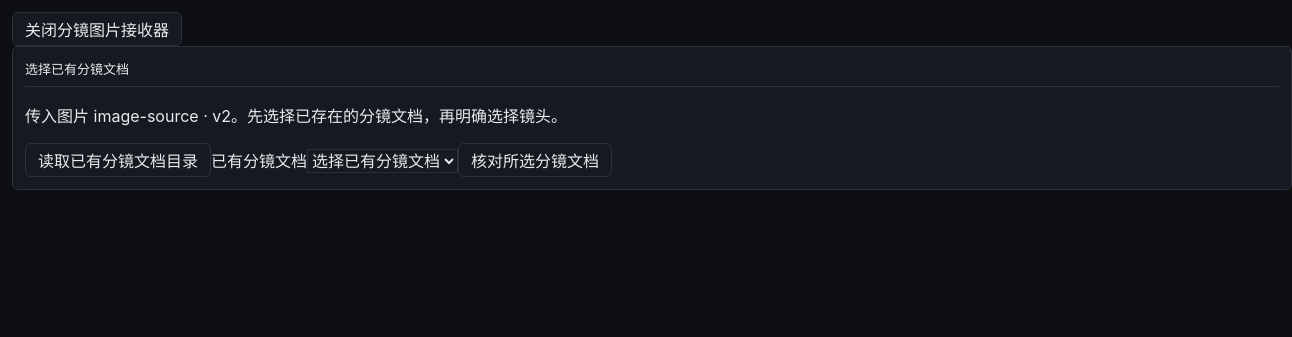
Test case: direct existing-storyboard recipient wrapper fences › blocks retained read/select closures after selection change without extra GETs
A fresh explicit action still reads the latest selected document once.
Click the button "读取已有分镜文档目录": coordinates (118, 160) top-left (25, 143), bottom-right (211, 177)
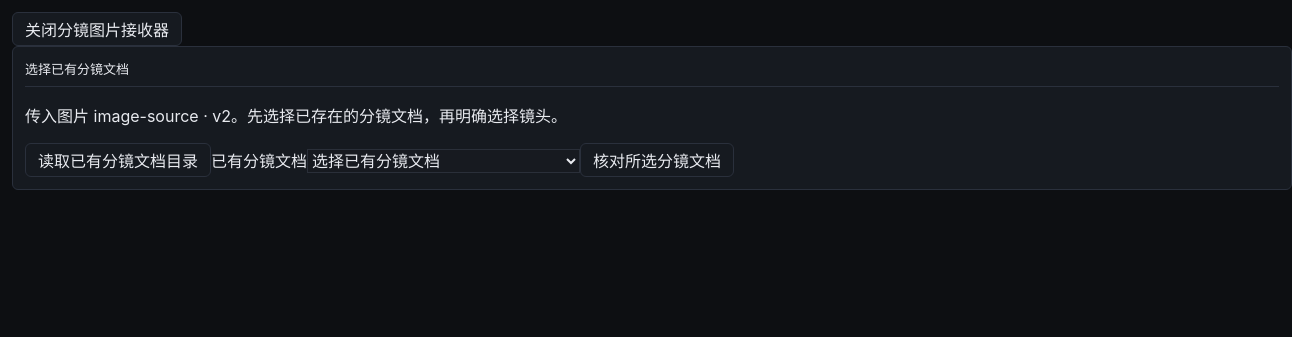
Select "Private existing storyboard A · v4" in the dropdown labelled "已有分镜文档": coordinates (444, 161) top-left (307, 149), bottom-right (580, 173)
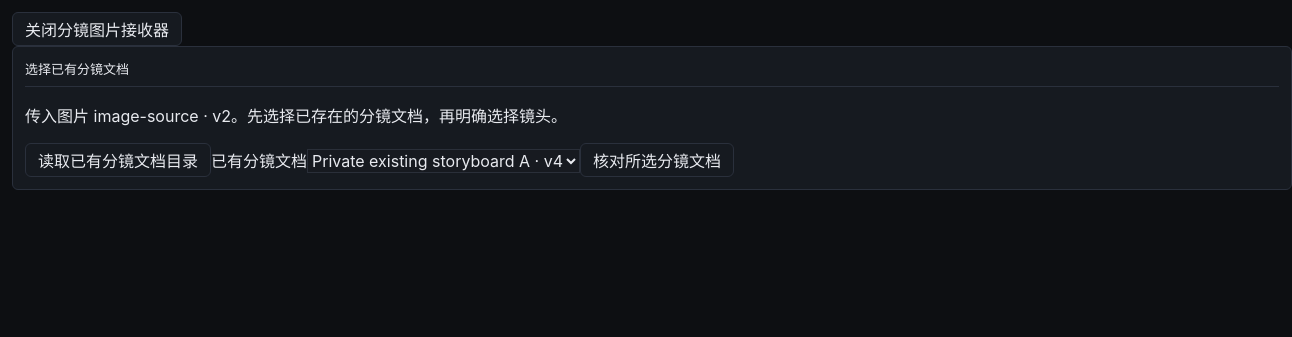
Select "Private existing storyboard B · v4" in the dropdown labelled "已有分镜文档": coordinates (444, 161) top-left (307, 149), bottom-right (580, 173)
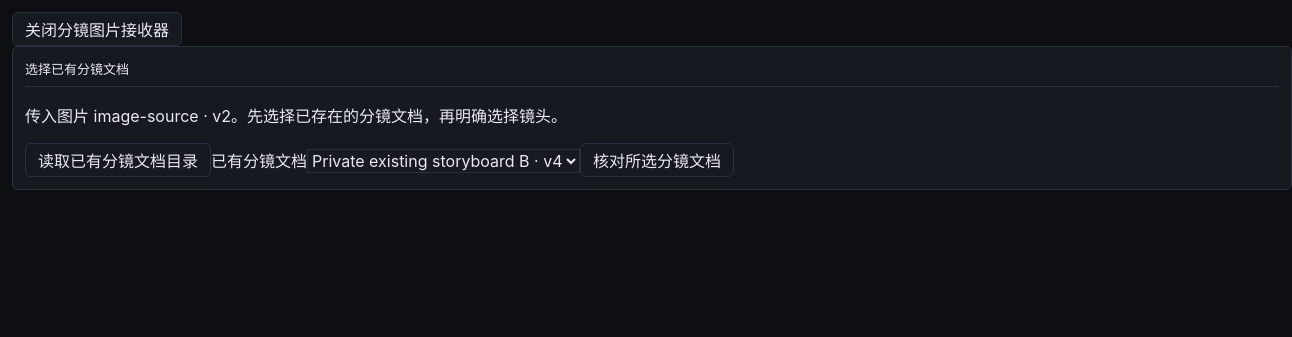
Click the button "核对所选分镜文档": coordinates (657, 160) top-left (580, 143), bottom-right (734, 177)
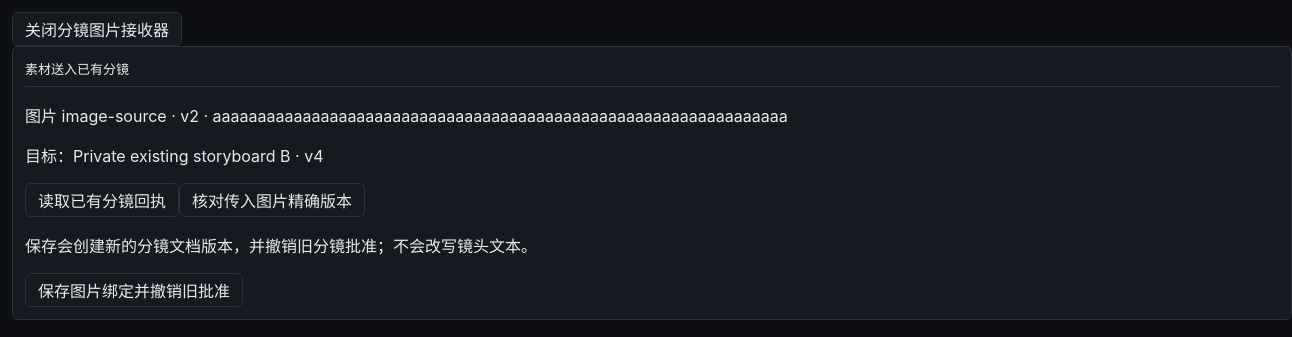
Result: the button "读取已有分镜回执" is shown at top-left (25, 183), bottom-right (179, 217)
